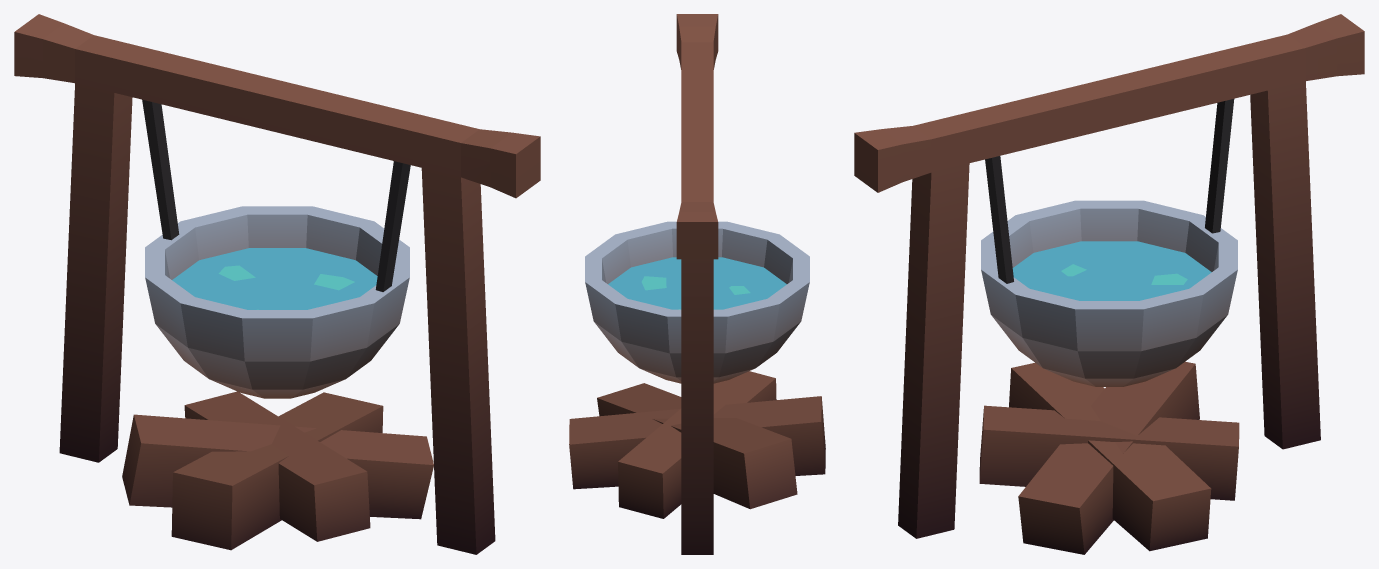
File: food tower.fbx
3 renders of one model, left to right at view 1: azimuth 30°, elevation 25°; view 2: azimuth 150°, elevation 25°; view 3: azimuth 270°, elevation 25°, orthographic. The views are drawn at different scales.
Parts seen in each view (by area): view 1: Cube.113; view 2: Cube.113; view 3: Cube.113.
Boxes of the visible parts, x1,y1,x2,y2 form: Cube.113: (14, 14, 540, 554); Cube.113: (569, 14, 825, 554); Cube.113: (854, 14, 1364, 554).
Size of the model in its own units: 87.17 by 124 by 138.
